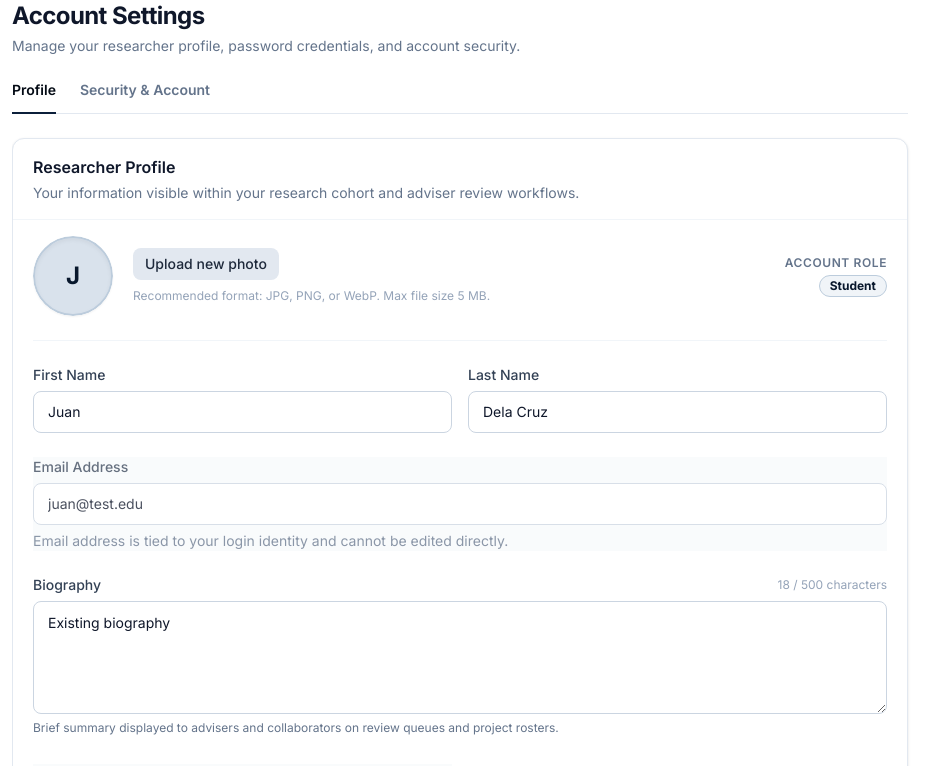
Scenario: SettingsPage Component Tests (§2 & §7 Spec) › 3. Error displays on blur and clears dynamically when fixed
Clear value and blur
Clear the field labelled "First Name". click: (242, 412)
box: [33, 391, 452, 433]
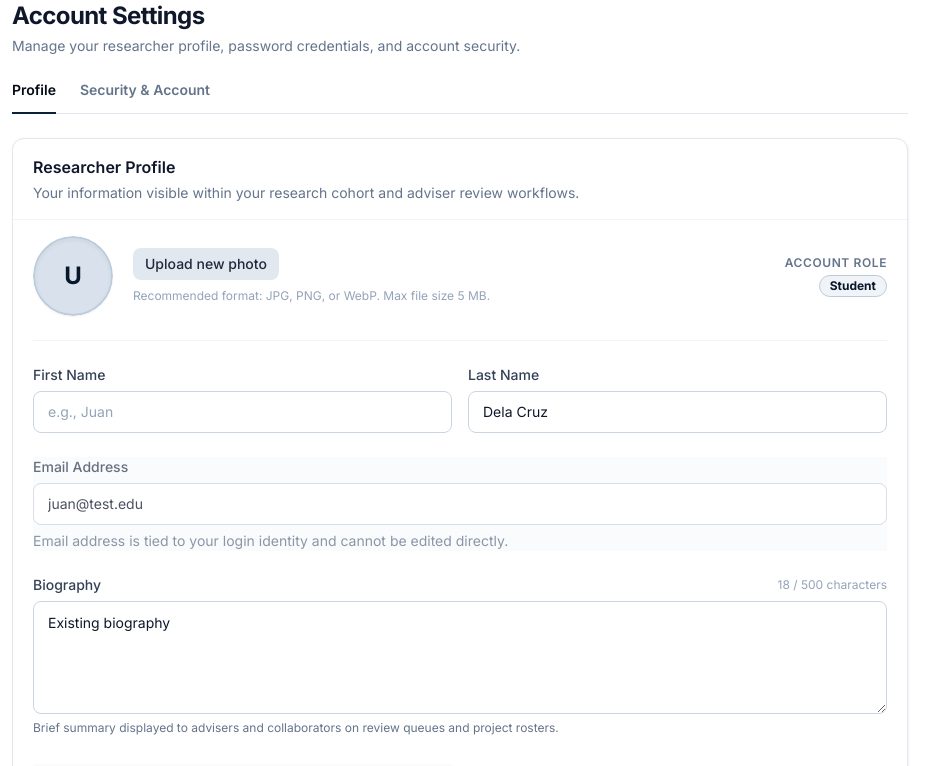
Leave the field labelled "First Name", box [33, 391, 452, 433]
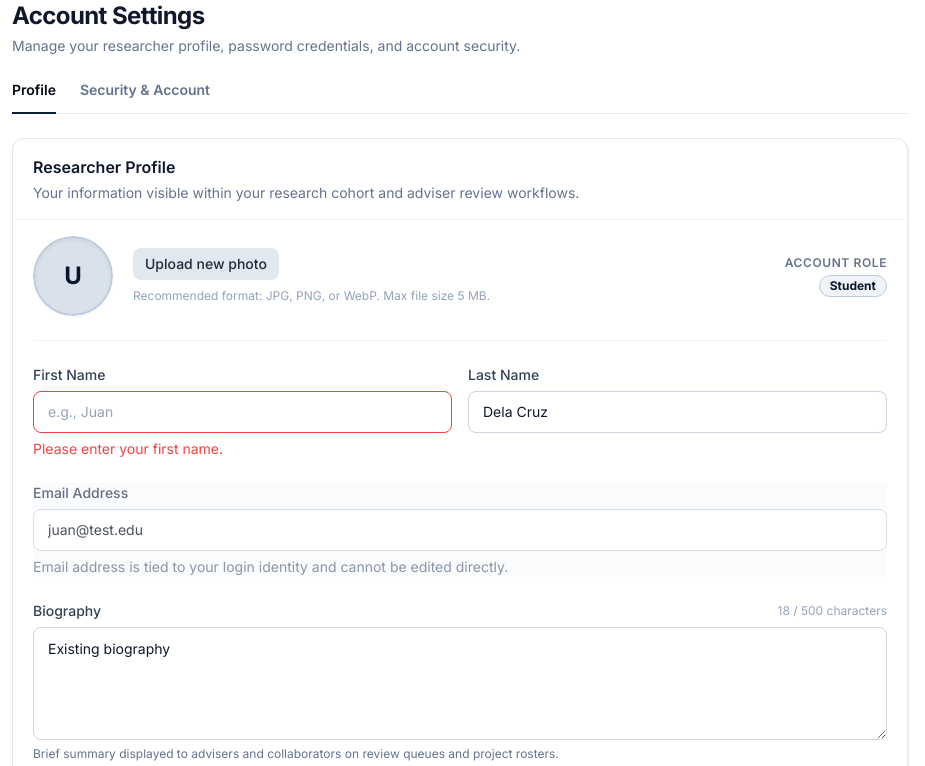
expect the text "Please enter your first name." is shown: met, box [33, 440, 223, 457]
Type valid name to fix error
Type "Maria" into the field labelled "First Name". click: (242, 412)
box: [33, 391, 452, 433]
(page scrolled)
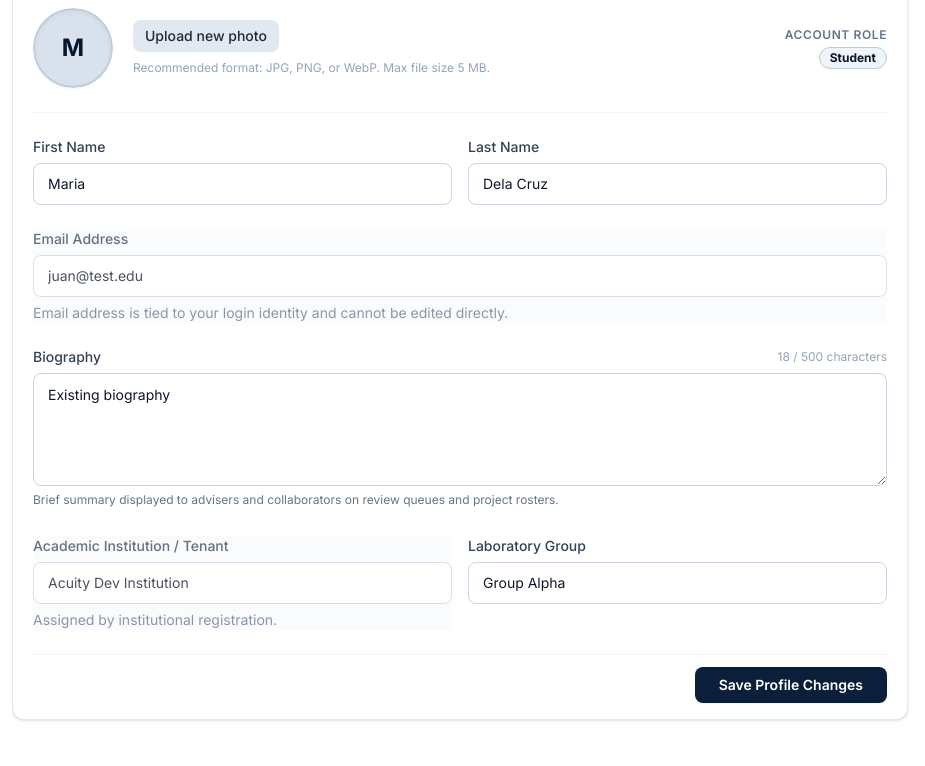
expect the text "Please enter your first name" is gone: met
expect the button "Save Profile Changes" is enabled: met, box [695, 667, 887, 703]
